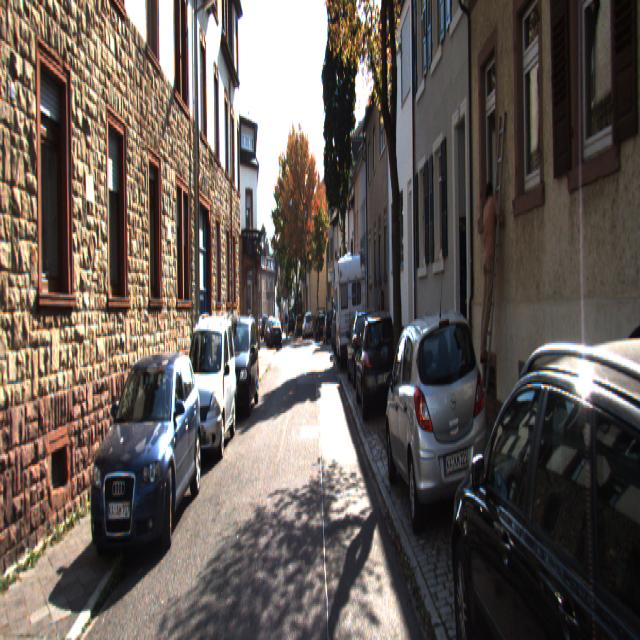Car: (446, 314, 640, 638), (80, 342, 203, 578), (384, 295, 492, 543), (174, 310, 238, 466), (352, 301, 400, 418), (220, 312, 262, 421), (344, 307, 381, 389), (313, 307, 329, 343), (322, 310, 336, 346), (269, 319, 283, 350), (301, 313, 314, 340)
DontCare: (286, 310, 296, 334)
Van: (333, 251, 368, 372)
